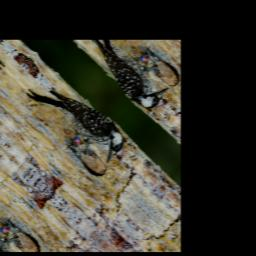Woodpecker: (19, 63, 130, 176)
